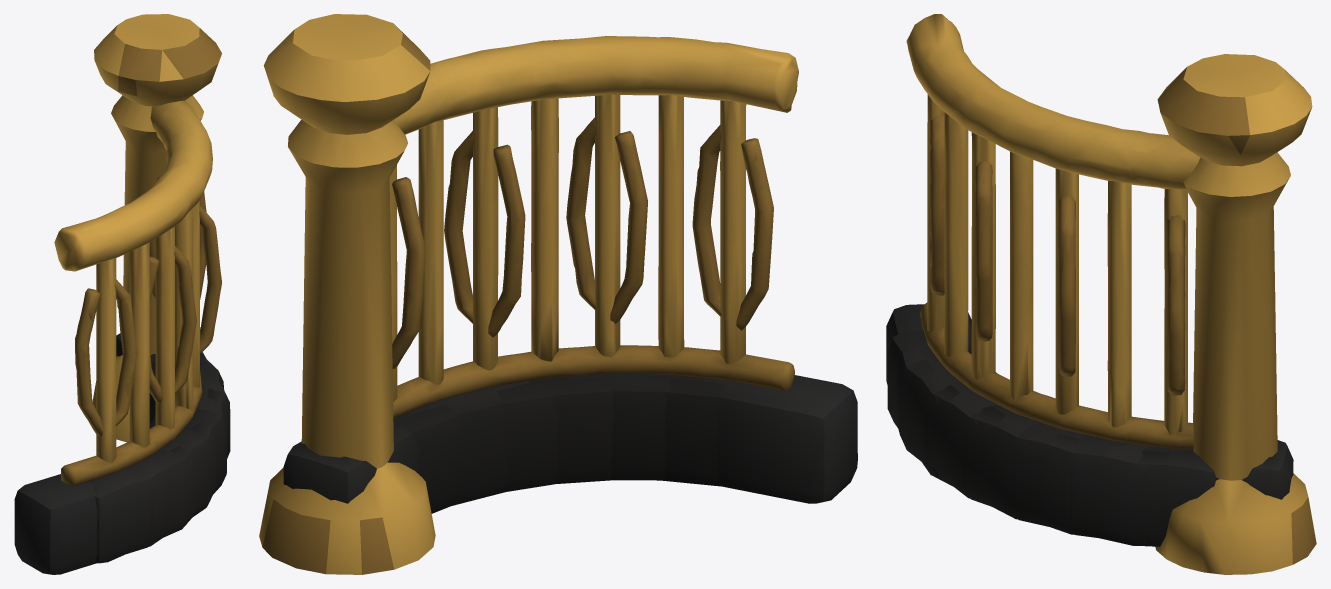
Rendered from ember_fender_end.glb.
3 renders of one model, left to right at view 1: azimuth 30°, elevation 25°; view 2: azimuth 150°, elevation 25°; view 3: azimuth 270°, elevation 25°, orthographic. The views are drawn at different scales.
Parts seen in each view (by area): view 1: ember_fender_end; view 2: ember_fender_end; view 3: ember_fender_end.
Boxes of the visible parts, x1=… form: ember_fender_end: x1=14, y1=14, x2=230, y2=574; ember_fender_end: x1=259, y1=14, x2=857, y2=574; ember_fender_end: x1=886, y1=14, x2=1316, y2=574.
Size of the model in its own units: 10.25 by 12.01 by 9.99.
